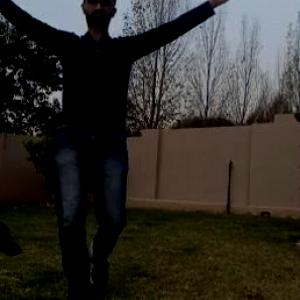takeoff: (0, 0, 243, 287)
